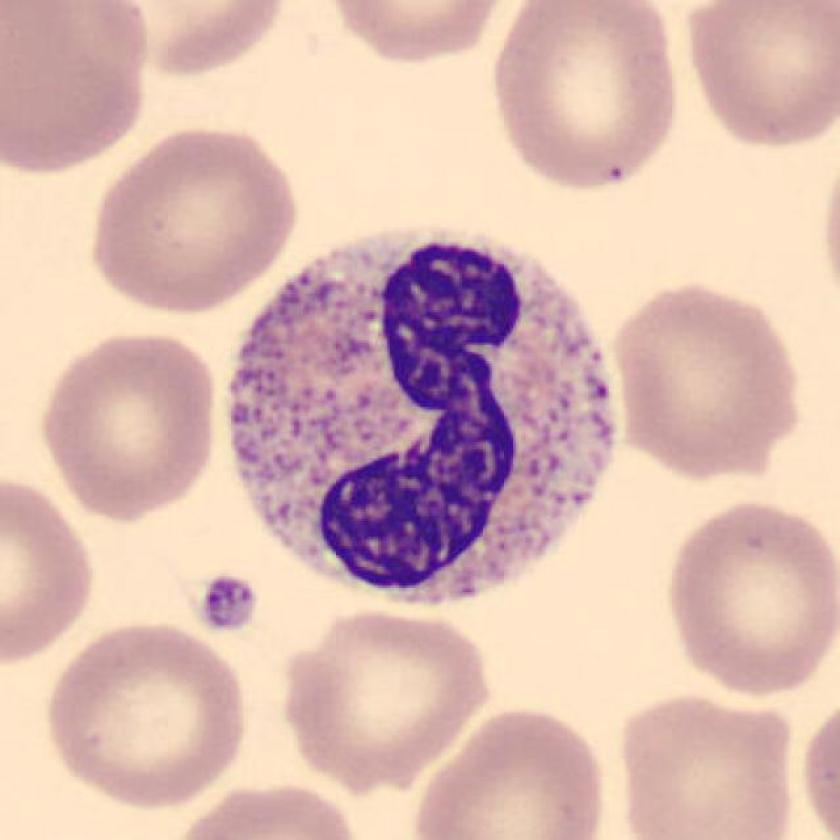neutrophil: (229, 228, 610, 605)
